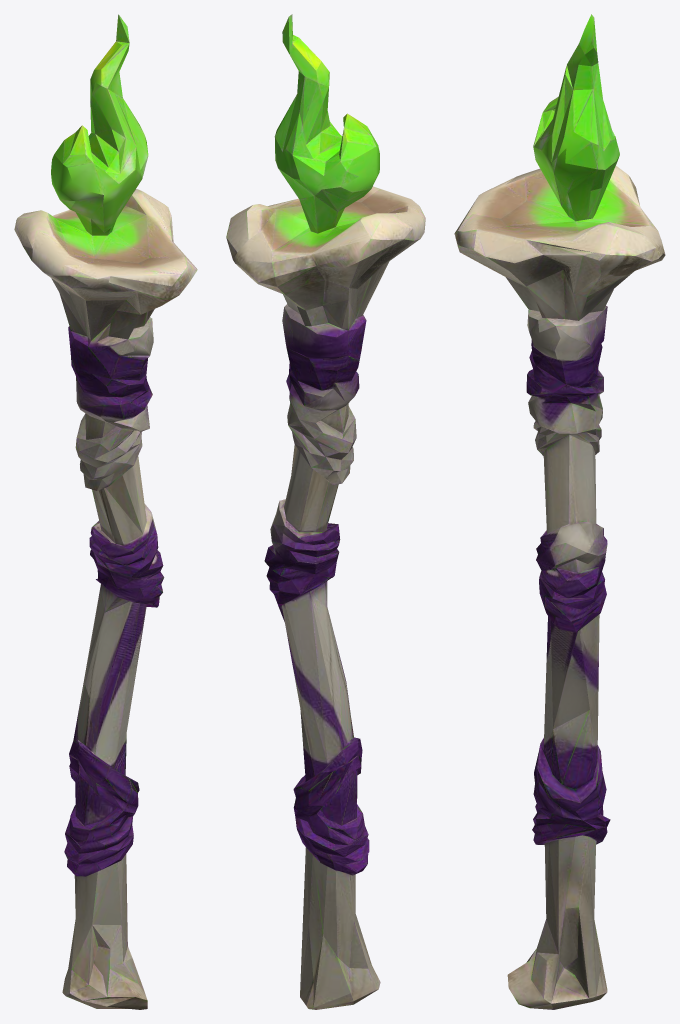
Rendered from chaos_staff.glb.
The picture shows the model from 3 angles, left to right: view 1: azimuth 30°, elevation 25°; view 2: azimuth 150°, elevation 25°; view 3: azimuth 270°, elevation 25°; orthographic projection. The views are drawn at different scales.
Parts seen in each view (by area): view 1: Mesh_0; view 2: Mesh_0; view 3: Mesh_0.
Part boxes in pixels (bbox=[...]): Mesh_0: bbox=[14, 14, 197, 1009]; Mesh_0: bbox=[226, 14, 425, 1009]; Mesh_0: bbox=[454, 14, 665, 1009].
Size of the model in its own units: 0.3195 by 1.9 by 0.3628.
1 material, 1 textured.
